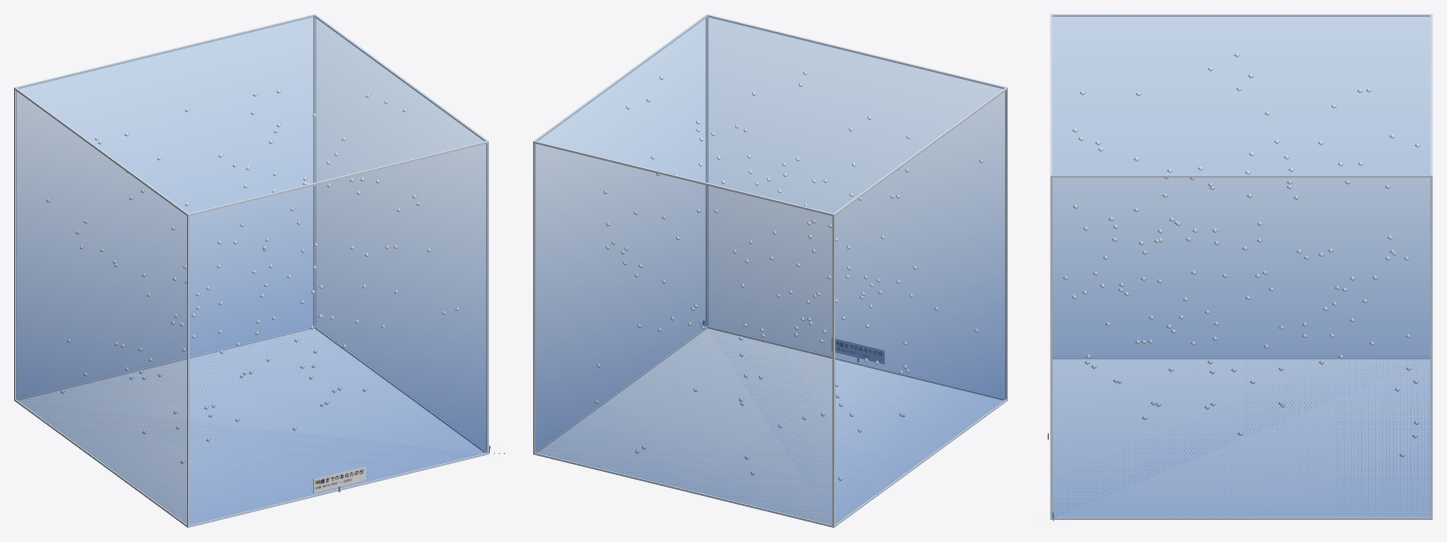
File: cube_life_90.glb
3 renders of one model, left to right at view 1: azimuth 30°, elevation 25°; view 2: azimuth 150°, elevation 25°; view 3: azimuth 270°, elevation 25°, orthographic. The views are drawn at different scales.
Visible parts, largest first — view 1: co2, edge, dots, label; view 2: co2, edge, dots, label; view 3: co2, edge, dots.
Part boxes in pixels (x1,y1,x2,y2): co2: [16, 15, 486, 524]; edge: [14, 14, 488, 527]; dots: [46, 89, 459, 463]; label: [313, 466, 365, 492]; co2: [535, 15, 1005, 524]; edge: [533, 14, 1007, 527]; dots: [594, 71, 983, 480]; label: [835, 339, 884, 363]; co2: [1051, 15, 1430, 517]; edge: [1050, 14, 1432, 519]; dots: [1063, 53, 1420, 457].
Size of the model in its own units: 71.52 by 67.75 by 70.62.
8 materials, 3 textured.
